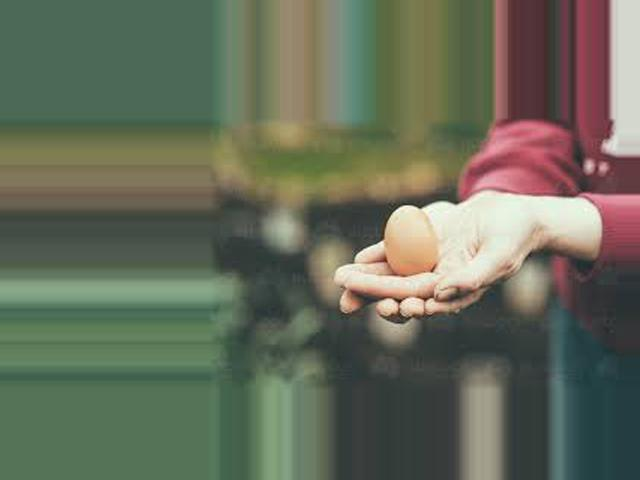egg: (385, 205, 437, 274)
